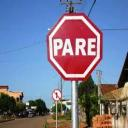NoSeguir: (51, 89, 63, 101)
Pare: (46, 11, 104, 81)
